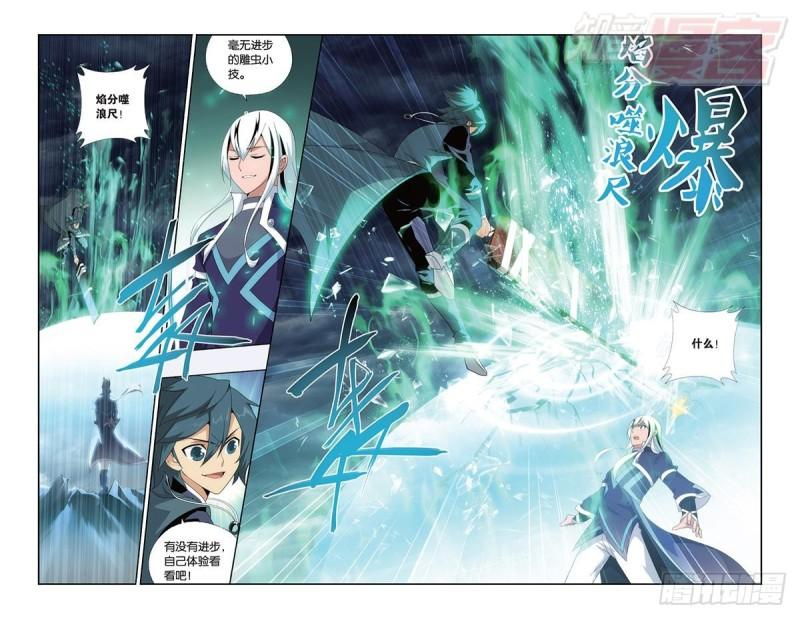boxBomb: (660, 289, 742, 391), (74, 63, 154, 149)
boxEllipse: (148, 517, 236, 583), (204, 35, 292, 99)
minBox: (228, 31, 760, 583), (136, 31, 326, 583), (36, 33, 192, 585)
